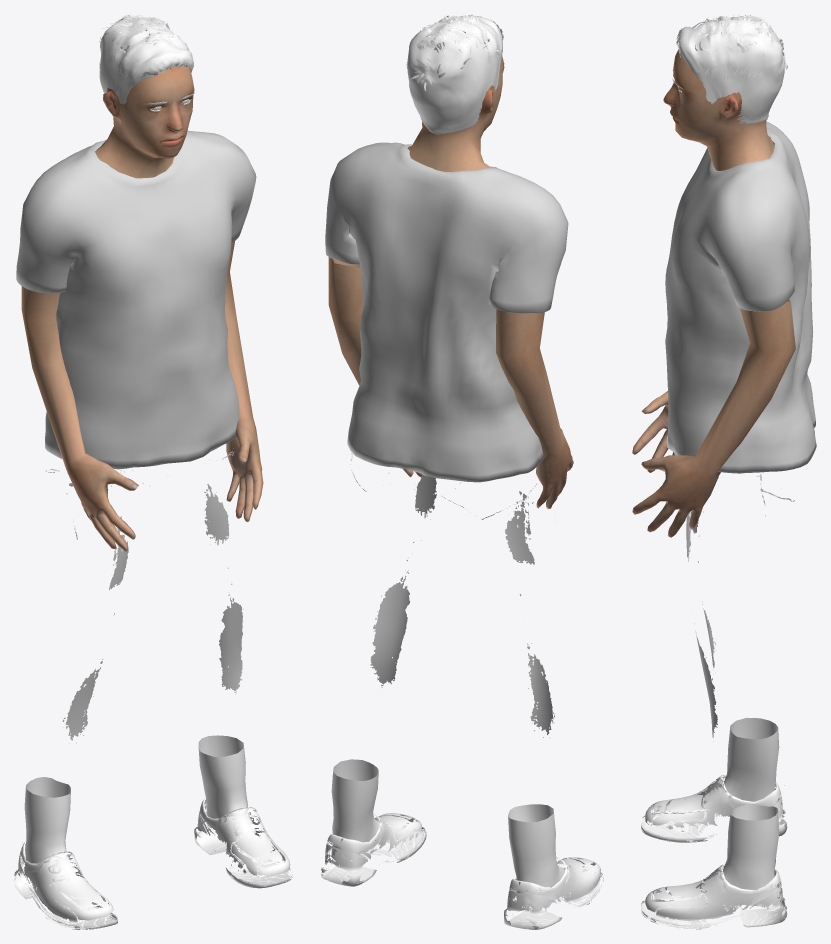
The model's file is ped09.fbx.
The picture shows the model from 3 angles, left to right: view 1: azimuth 30°, elevation 25°; view 2: azimuth 150°, elevation 25°; view 3: azimuth 270°, elevation 25°; orthographic projection.
Parts seen in each view (by area): view 1: Human.male_casualsuit06, Human.male1591, Human.shoes01, Human.short01; view 2: Human.male_casualsuit06, Human.shoes01, Human.male1591, Human.short01; view 3: Human.male_casualsuit06, Human.male1591, Human.shoes01, Human.short01.
Part boxes in pixels (x1,y1,x2,y2): Human.male_casualsuit06: (16,130,256,843); Human.male1591: (21,66,263,551); Human.shoes01: (14,735,292,929); Human.short01: (99,14,193,115); Human.male_casualsuit06: (325,142,568,891); Human.shoes01: (321,759,603,929); Human.male1591: (328,55,573,508); Human.short01: (406,14,503,134); Human.male_casualsuit06: (665,121,816,891); Human.male1591: (632,47,795,537); Human.shoes01: (641,717,787,929); Human.short01: (676,14,787,125).
Size of the model in its own units: 49.93 by 175 by 34.24.
